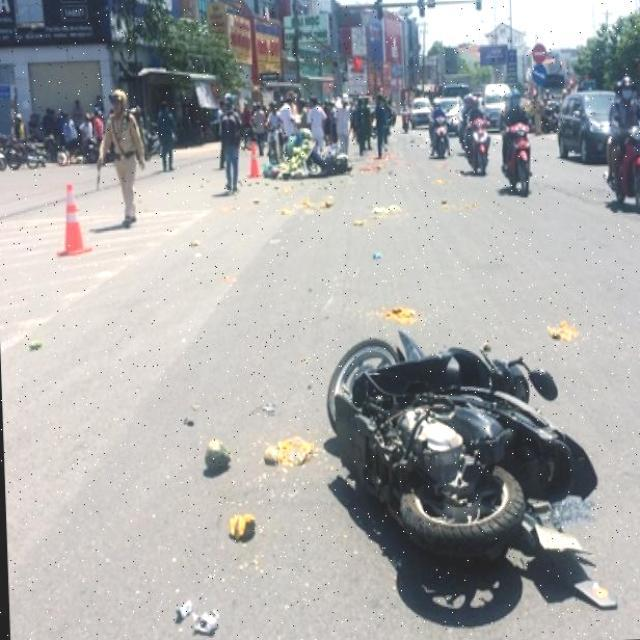accident: (291, 248, 625, 630)
